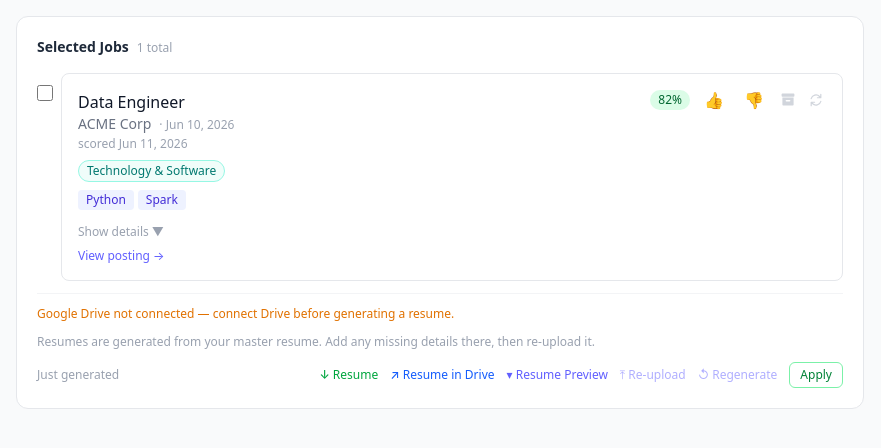
Scenario: SelectedJobsPanel — mark as applied › Cancel returns to the initial Applied button
This screenshot has width=881, height=448.
Step 1. Click the button with aria-label "mark job as applied" → point(816, 375), box [789,362,843,388]
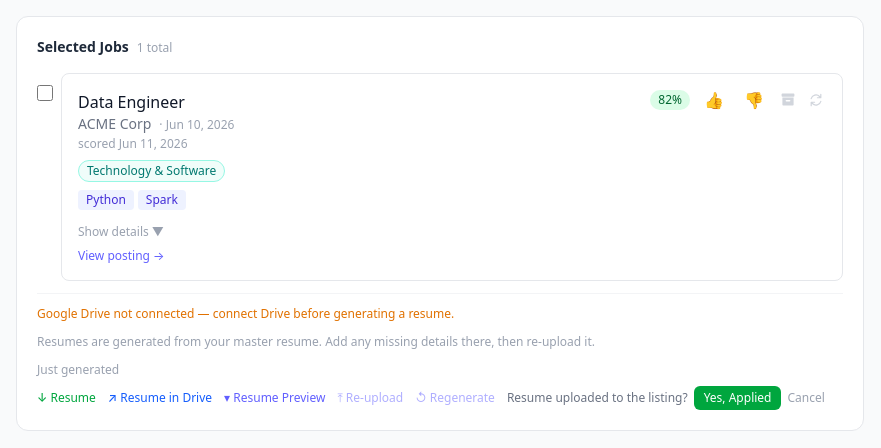
Result: the button with aria-label "confirm mark as applied" is shown at [694,386,782,410]
Step 2. Click the button "Cancel" → point(806, 398), box [788,390,825,406]
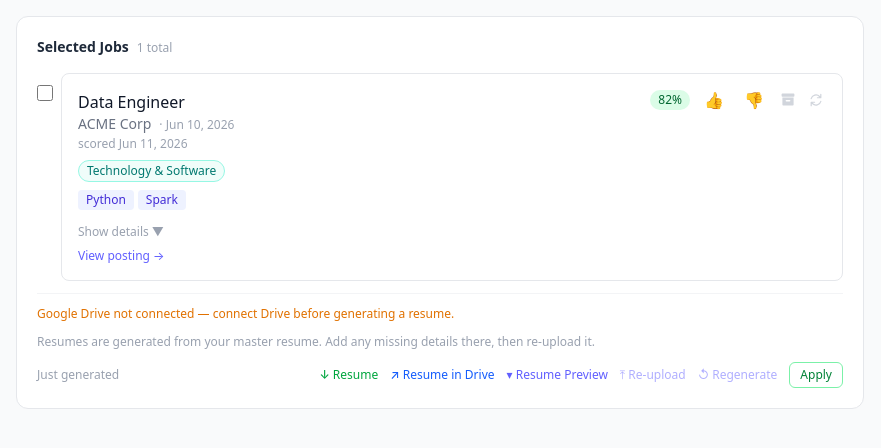
Result: the button with aria-label "mark job as applied" is shown at [789,362,843,388]
Result: the text "Resume uploaded" is gone
